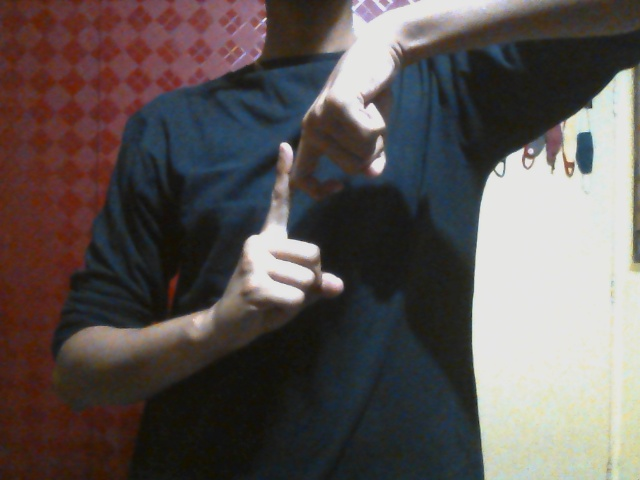K: (223, 74, 390, 335)
